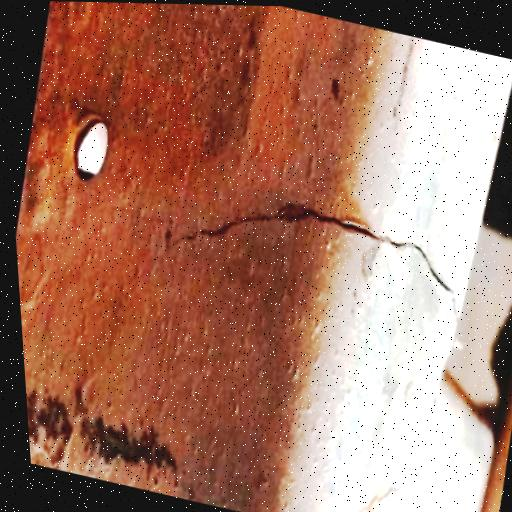crack: (178, 203, 455, 311)
